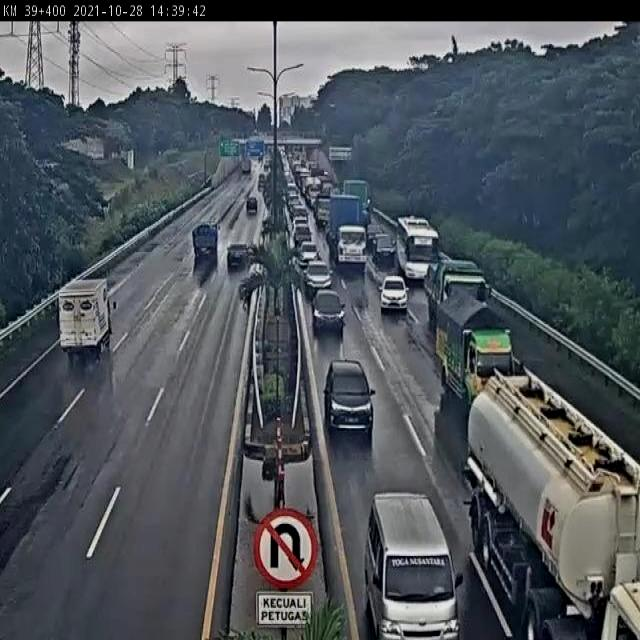Bus: (396, 218, 439, 281)
Car: (321, 361, 375, 439), (311, 292, 345, 336), (379, 272, 410, 314), (304, 259, 332, 297), (298, 238, 318, 265)
Truck: (466, 369, 640, 639), (433, 290, 502, 397), (59, 276, 113, 354), (327, 193, 368, 270), (191, 220, 220, 260)
Van: (366, 489, 464, 640)
